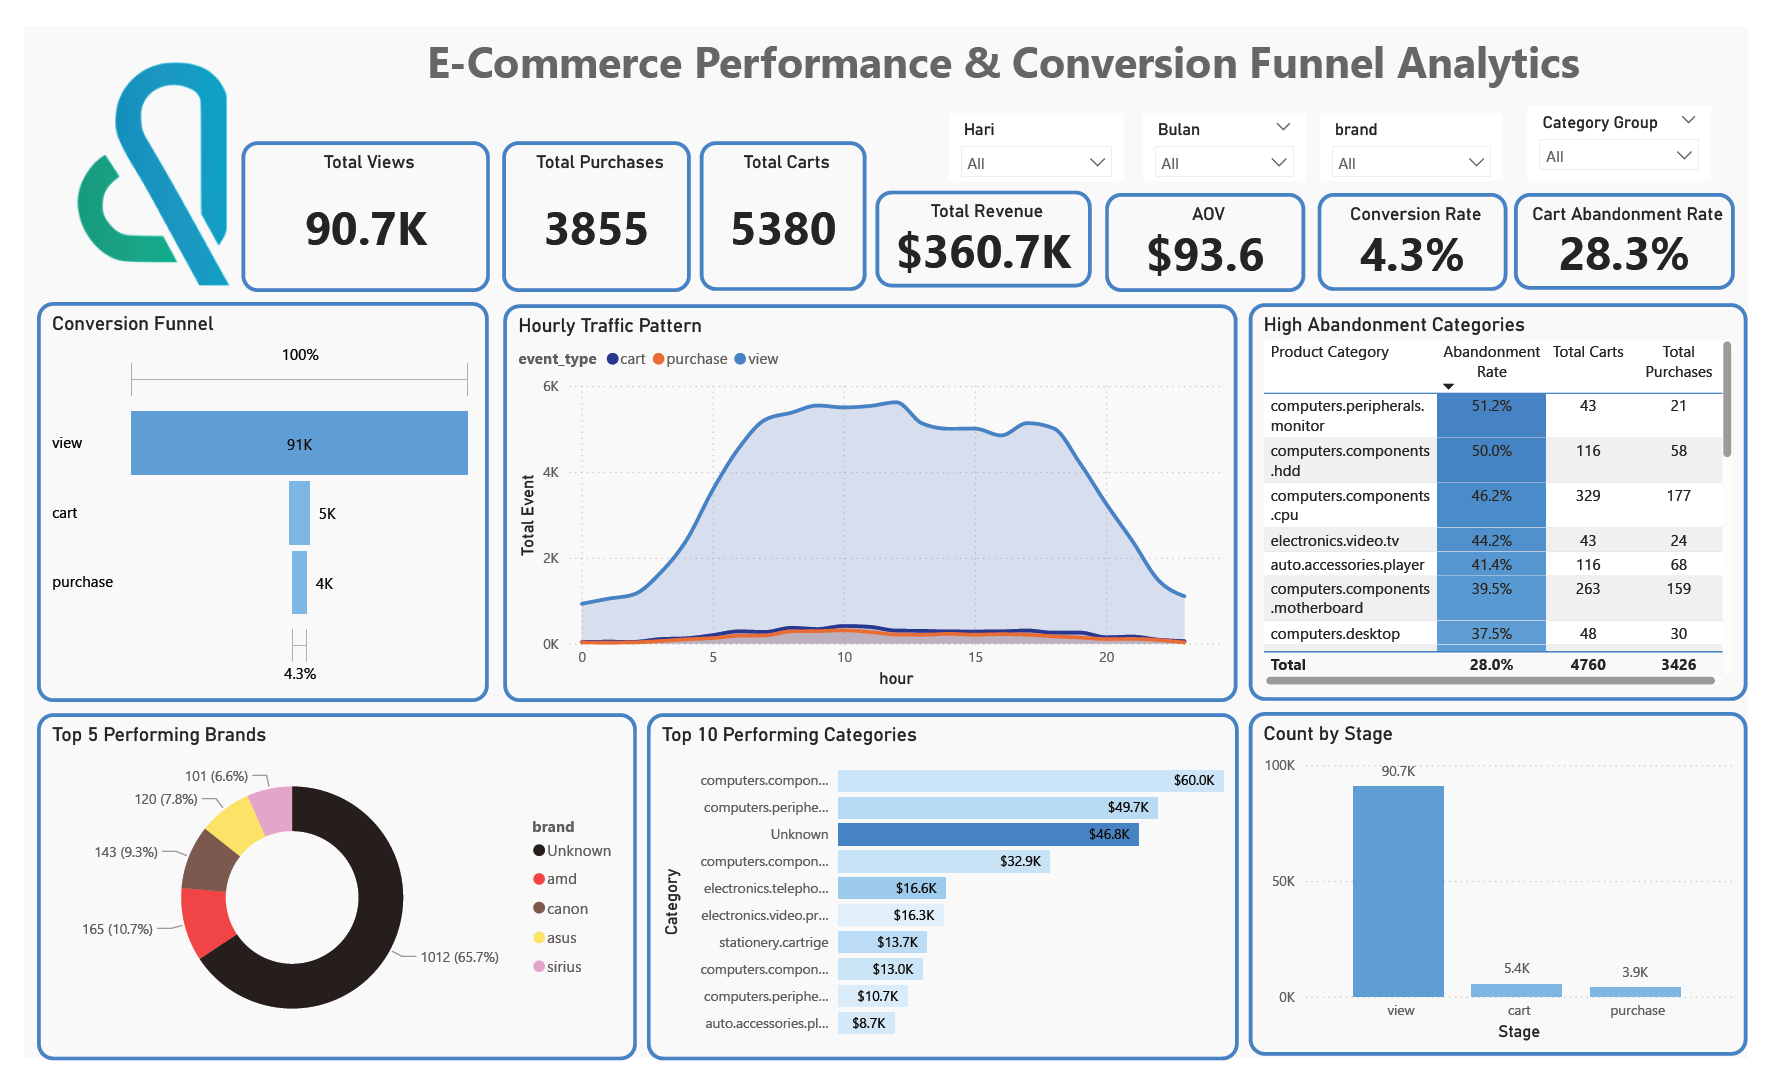

Layout of this report page (visuals, bound fields, positions):
{"tool":"powerbi","page":{"name":"Page 1","canvas":[1500,900],"ordinal":0},"visuals":[{"type":"card","title":"Total Views","fields":{"Values":["Measure.Total_Views"]},"box":[188.7,100.5,215.9,130.4],"z":1000},{"type":"card","title":"Conversion Rate","fields":{"Values":["Measure.Overall_Conversion_Rate"]},"box":[1125.6,145,165,84.9],"z":4000},{"type":"card","title":"Total Carts","fields":{"Values":["Measure.Total_Carts"]},"box":[588.1,100.2,145,129.7],"z":5000},{"type":"card","title":"Total Purchases","fields":{"Values":["Measure.Total_Purchases"]},"box":[416.1,100.2,163.8,130.8],"z":6000},{"type":"card","title":"Cart Abandonment Rate","fields":{"Values":["Measure.Cart_Abandonment_Rate"]},"box":[1296.5,145,192.1,83.7],"z":7000},{"type":"card","title":"AOV","fields":{"Values":["Measure.Average_Order_Value"]},"box":[940.6,145,174.4,86],"z":8000},{"type":"card","title":"Total Revenue","fields":{"Values":["Measure.Total_Revenue"]},"box":[741.4,142.8,187.7,84.6],"z":9000},{"type":"funnel","title":"Conversion Funnel","fields":{"Category":["cleaned_ecommerce_events.event_type"],"Y":["Measure.Total_Event_Count"]},"box":[10.6,240.4,393.7,347.7],"z":10000},{"type":"lineChart","title":"Hourly Traffic Pattern","fields":{"Y":["Measure.Total_Event_Count"],"Category":["cleaned_ecommerce_events.hour"],"Series":["cleaned_ecommerce_events.event_type"]},"box":[416.9,241.7,639.6,346.3],"z":11000},{"type":"clusteredBarChart","title":"Top 10 Performing Categories","fields":{"Category":["cleaned_ecommerce_events.category_code"],"Y":["Measure.Total_Revenue"]},"box":[542.2,597.6,515.1,302.9],"z":12000},{"type":"donutChart","title":"Top 5 Performing Brands","fields":{"Category":["cleaned_ecommerce_events.brand"],"Y":["Measure.Total_Purchases"]},"box":[10.6,597.6,522.1,302.9],"z":13000},{"type":"textbox","box":[203.7,0,1296.8,67.9],"z":13001},{"type":"tableEx","title":"High Abandonment Categories","fields":{"Values":["cleaned_ecommerce_events.category_code","Measure.Cart_Abandonment_Rate","Measure.Total_Carts","Measure.Total_Purchases"]},"box":[1065.7,241.4,434.3,345.7],"z":13002},{"type":"slicer","fields":{"Values":["cleaned_ecommerce_events.brand"]},"box":[1128.4,76.5,158.9,57],"z":13003},{"type":"slicer","fields":{"Values":["cleaned_ecommerce_events.brand"]},"box":[1309,69.7,158.9,63.8],"z":13004},{"type":"slicer","fields":{"Values":["cleaned_ecommerce_events.date.Variation.Hierarki Tanggal.Bulan"]},"box":[973.6,76.5,141.2,57],"z":13005},{"type":"slicer","fields":{"Values":["cleaned_ecommerce_events.date.Variation.Hierarki Tanggal.Hari"]},"box":[805.2,76.5,152.1,57],"z":13006},{"type":"clusteredColumnChart","fields":{"Category":["cleaned_ecommerce_events.event_type"],"Y":["Measure.Total_Event_Count"]},"box":[1065.7,597.1,434.3,298.6],"z":13007}]}

Visuals, with their boxes in screenshot pixels (x1, y1, x2, y2), scaled from the page's 1500x900 canvas onto the 1771x1080 screenshot:
"Total Views" card: locate(223, 121, 478, 277)
"Conversion Rate" card: locate(1329, 174, 1524, 276)
"Total Carts" card: locate(694, 120, 866, 276)
"Total Purchases" card: locate(491, 120, 685, 277)
"Cart Abandonment Rate" card: locate(1531, 174, 1758, 274)
"AOV" card: locate(1111, 174, 1316, 277)
"Total Revenue" card: locate(875, 171, 1097, 273)
"Conversion Funnel" funnel: locate(13, 288, 477, 706)
"Hourly Traffic Pattern" lineChart: locate(492, 290, 1247, 706)
"Top 10 Performing Categories" clusteredBarChart: locate(640, 717, 1248, 1079)
"Top 5 Performing Brands" donutChart: locate(13, 717, 629, 1079)
textbox: locate(241, 0, 1770, 81)
"High Abandonment Categories" tableEx: locate(1258, 290, 1770, 705)
slicer - cleaned_ecommerce_events.brand: locate(1332, 92, 1520, 160)
slicer - cleaned_ecommerce_events.brand: locate(1545, 84, 1733, 160)
slicer - cleaned_ecommerce_events.date.Variation.Hierarki Tanggal.Bulan: locate(1149, 92, 1316, 160)
slicer - cleaned_ecommerce_events.date.Variation.Hierarki Tanggal.Hari: locate(951, 92, 1130, 160)
clusteredColumnChart - cleaned_ecommerce_events.event_type x Measure.Total_Event_Count: locate(1258, 717, 1770, 1075)
